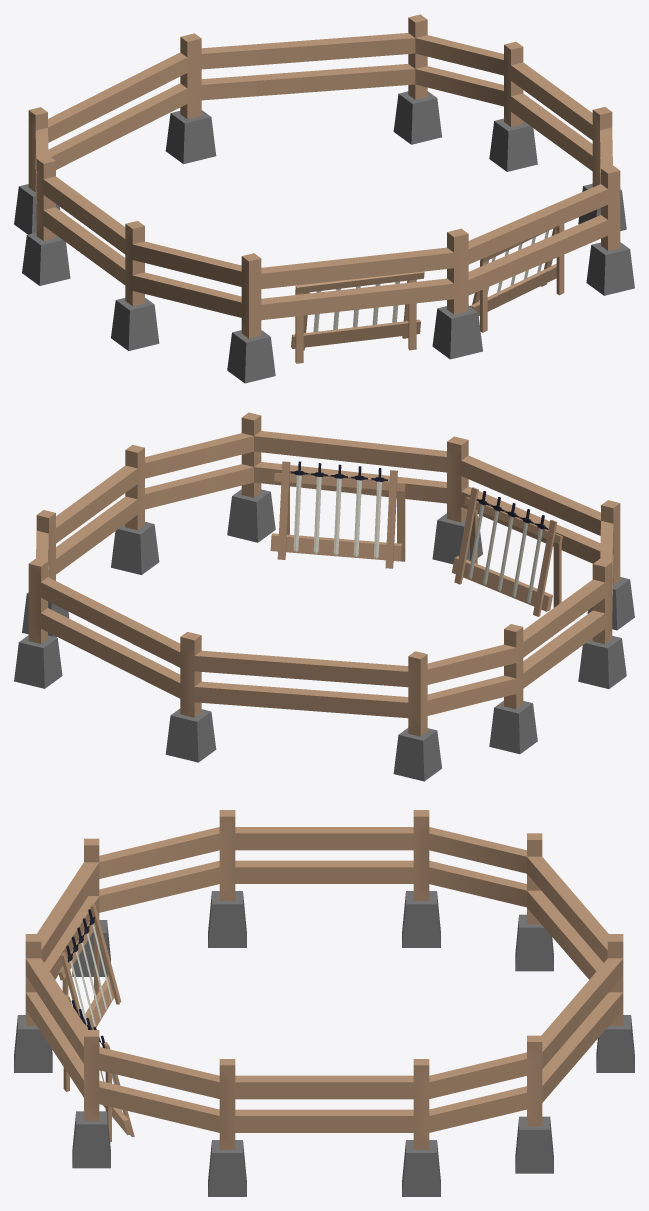
Rendered from Octagon.fbx.
The picture shows the model from 3 angles, top to bottom: view 1: azimuth 30°, elevation 25°; view 2: azimuth 150°, elevation 25°; view 3: azimuth 270°, elevation 25°; orthographic projection. The views are drawn at different scales.
Parts seen in each view (by area): view 1: Fighting Pit; view 2: Fighting Pit; view 3: Fighting Pit.
Boxes of the visible parts, left/top/right/bottom form: Fighting Pit: left=14, top=14, right=634, bottom=383; Fighting Pit: left=14, top=412, right=634, bottom=781; Fighting Pit: left=14, top=810, right=634, bottom=1196.
Bounding box in the file's own units: 0.6738 × 0.1546 × 0.6667.
